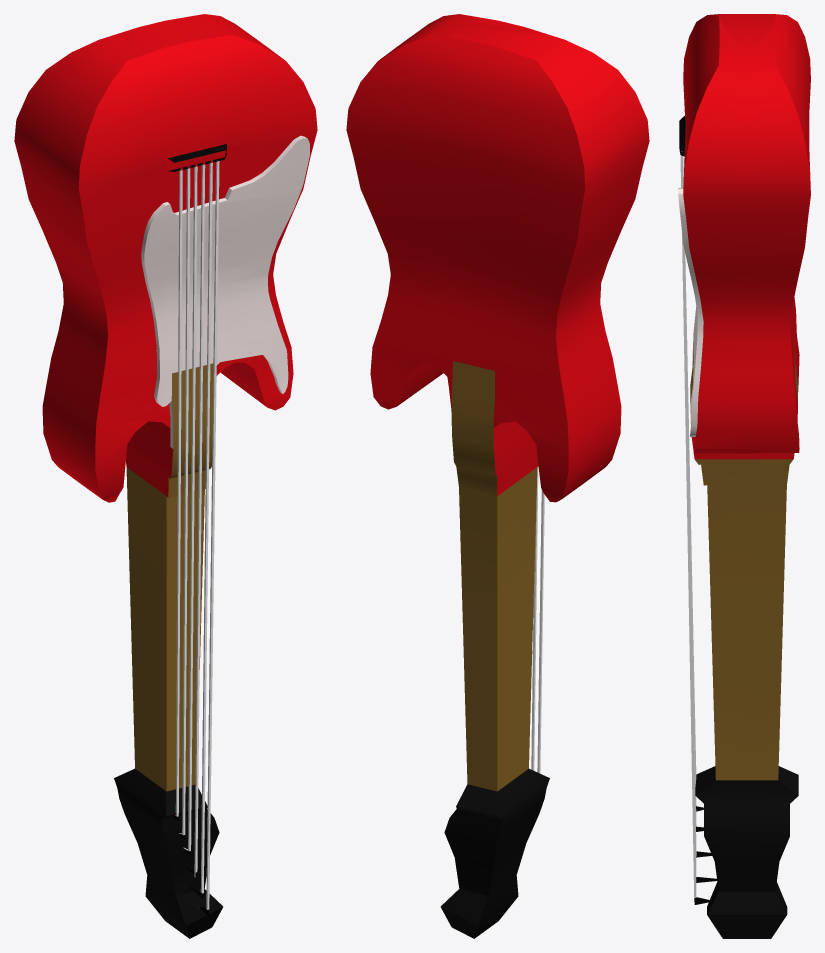
Rendered from (W) Elec Guitar.fbx.
3 renders of one model, left to right at view 1: azimuth 30°, elevation 25°; view 2: azimuth 150°, elevation 25°; view 3: azimuth 270°, elevation 25°, orthographic.
Visible parts, largest first — view 1: Elec Guitar; view 2: Elec Guitar; view 3: Elec Guitar.
Boxes of the visible parts, <box> form: Elec Guitar: <box>14,14,317,938</box>; Elec Guitar: <box>346,14,649,938</box>; Elec Guitar: <box>678,14,810,938</box>.
Size of the model in its own units: 469 by 1682 by 227.
